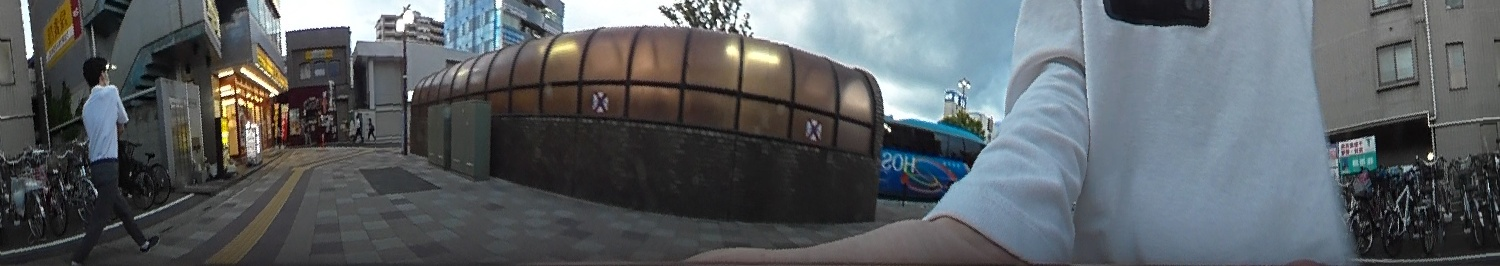difficult_person: (348, 110, 365, 146), (364, 114, 378, 139)
person: (61, 50, 170, 261)
